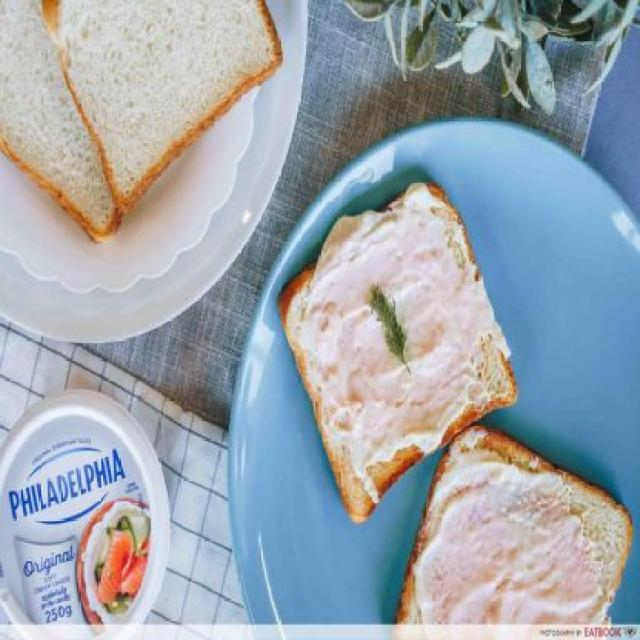Spread: (288, 200, 496, 460), (426, 463, 597, 640)
